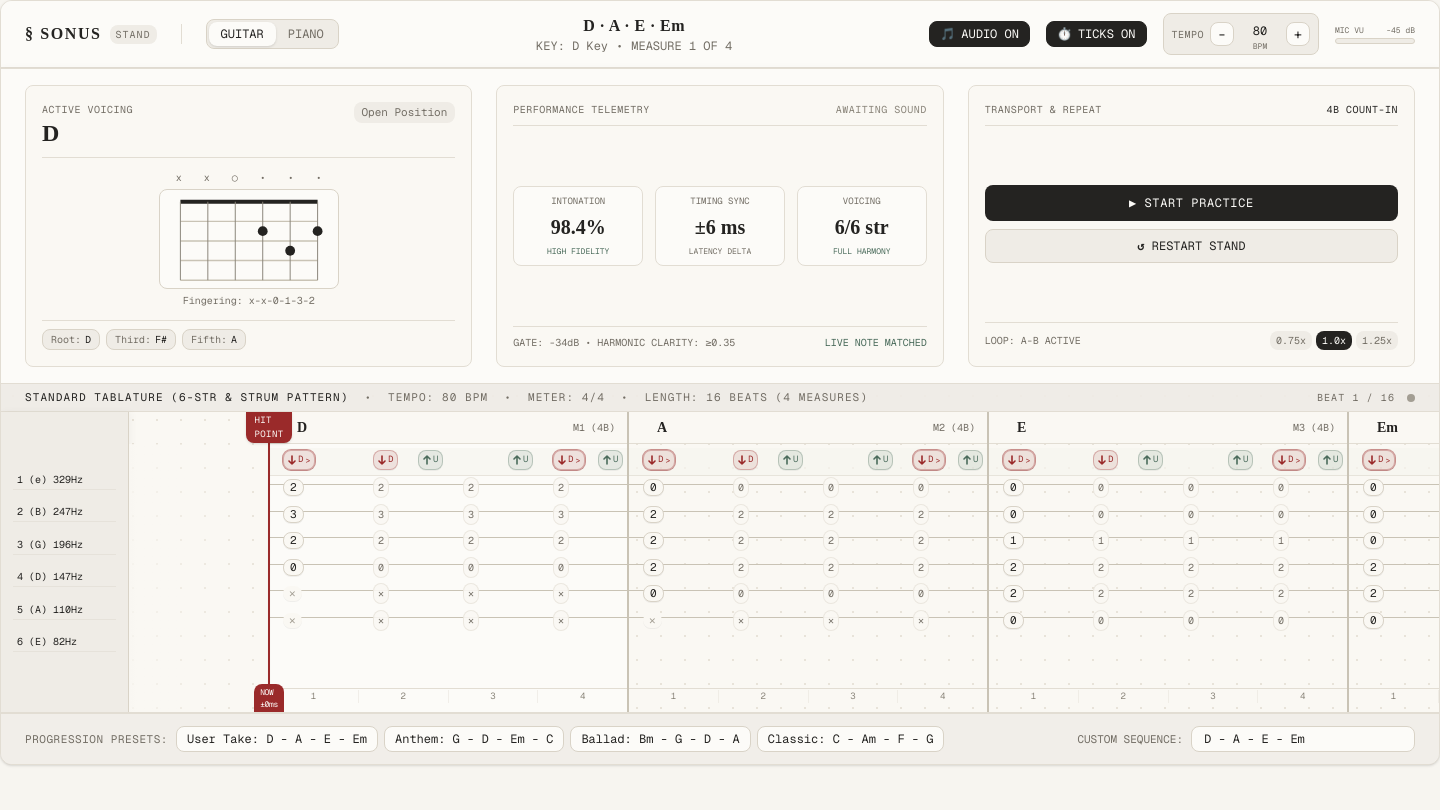
Scenario: PracticeStandPage › toggles metronome beat ticks on and off
The image size is (1440, 810).
Click the button "⏱️ TICKS ON" at [1096, 34], box [1046,21,1146,47]
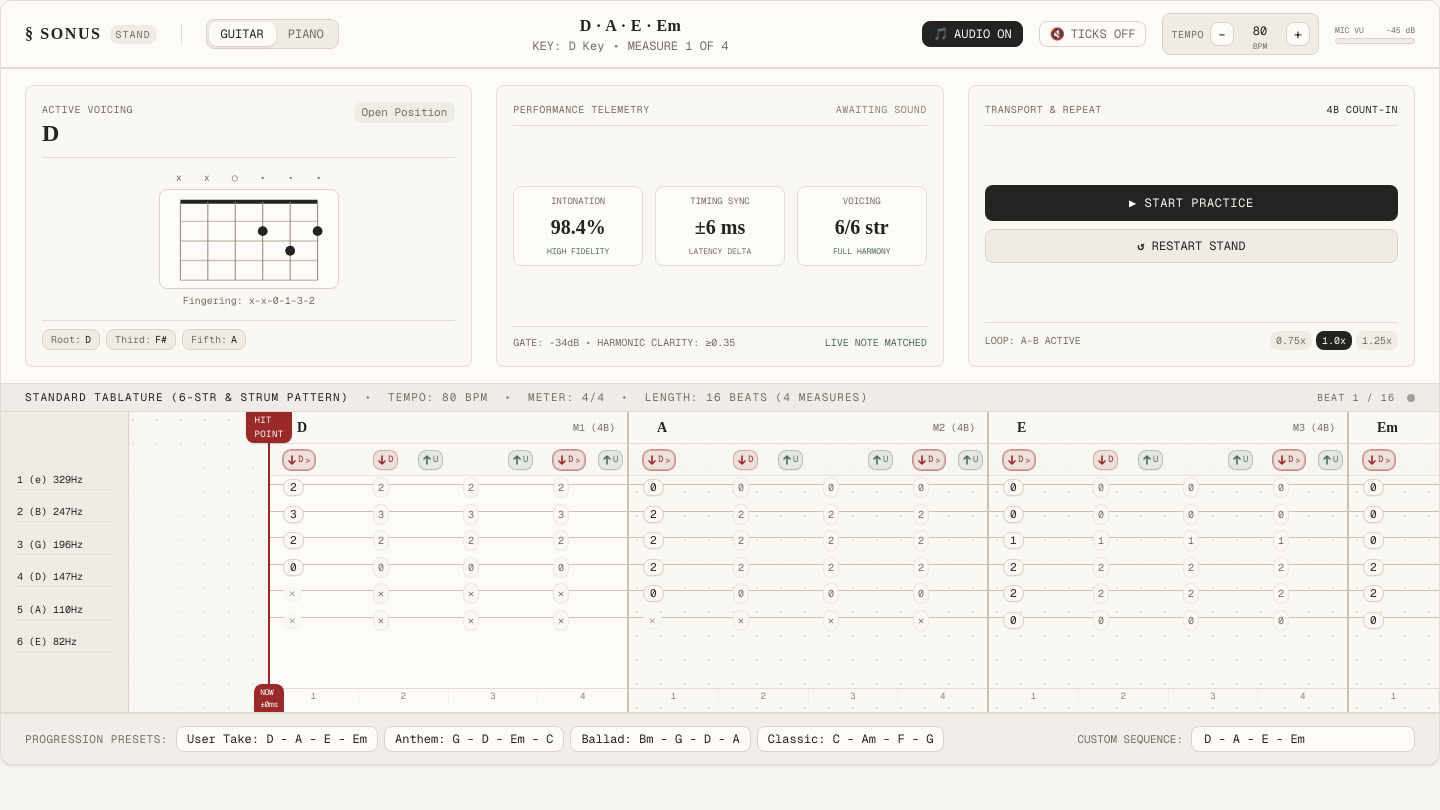
Expected: the button "🔇 TICKS OFF" is shown, [1039,21,1146,47]
